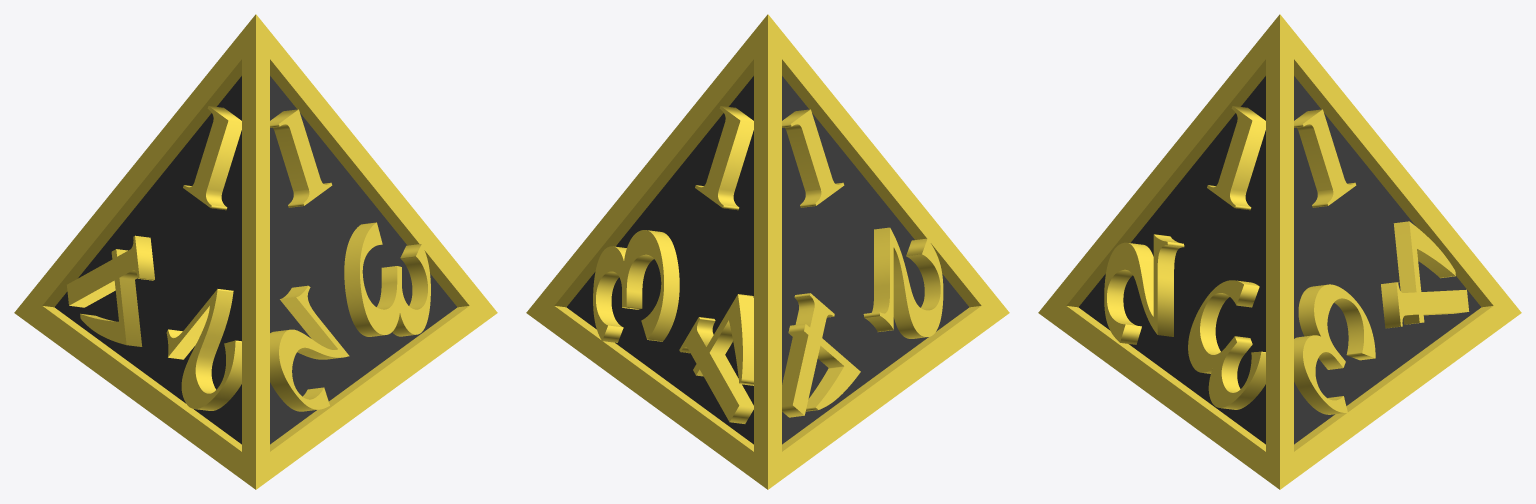
3 views of the same model, side by side, from view 1: azimuth 30°, elevation 25°; view 2: azimuth 150°, elevation 25°; view 3: azimuth 270°, elevation 25° (orthographic).
Parts seen in each view (by area): view 1: D4, d4_face_3, d4_face_4, Text.008, Text.007, Text.016, Text.006, Text.011, Text.010; view 2: D4, d4_face_3, d4_face_2, Text.014, Text.007, Text.017, Text.016, Text.012, Text.011; view 3: D4, d4_face_2, d4_face_4, Text.014, Text.006, Text.008, Text.017, Text.010, Text.012.
Boxes of the visible parts, box(x1,y1,x2,y2) form: D4: box(14, 14, 497, 489); d4_face_3: box(54, 76, 241, 444); d4_face_4: box(270, 76, 457, 444); Text.008: box(344, 222, 430, 336); Text.007: box(166, 289, 241, 410); Text.016: box(67, 235, 154, 346); Text.006: box(270, 285, 349, 411); Text.011: box(183, 106, 241, 210); Text.010: box(270, 109, 332, 207); D4: box(526, 14, 1009, 489); d4_face_3: box(782, 76, 969, 444); d4_face_2: box(566, 76, 753, 444); Text.014: box(593, 230, 679, 342); Text.007: box(863, 227, 943, 338); Text.017: box(679, 294, 753, 423); Text.016: box(782, 293, 860, 417); Text.012: box(695, 106, 753, 210); Text.011: box(782, 109, 844, 207); D4: box(1038, 14, 1521, 489); d4_face_2: box(1294, 76, 1481, 444); d4_face_4: box(1078, 76, 1265, 444); Text.014: box(1294, 284, 1375, 414); Text.006: box(1104, 234, 1184, 344); Text.008: box(1188, 280, 1265, 409); Text.017: box(1381, 221, 1469, 328); Text.010: box(1207, 106, 1265, 210); Text.012: box(1294, 109, 1356, 207).
Bounding box in the file's own units: 2.12 × 2.03 × 2.45.
